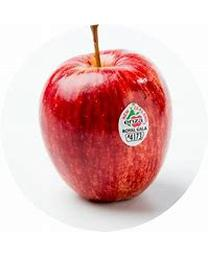apple: (37, 48, 171, 203)
